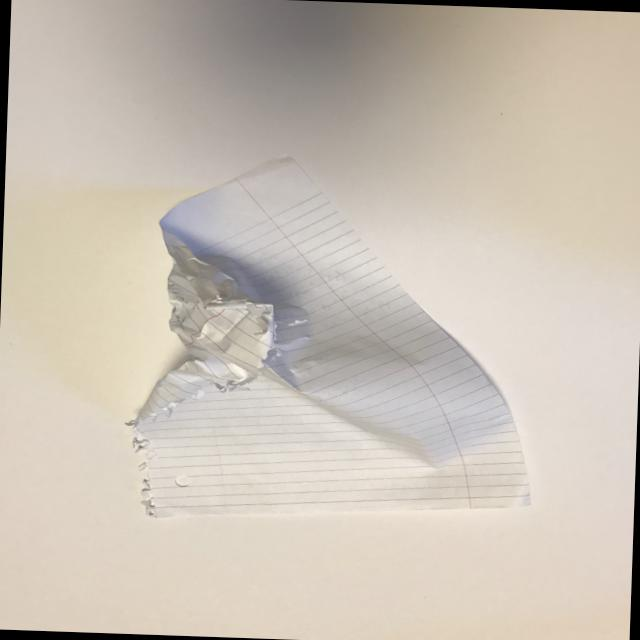Paper: (108, 148, 564, 576)
